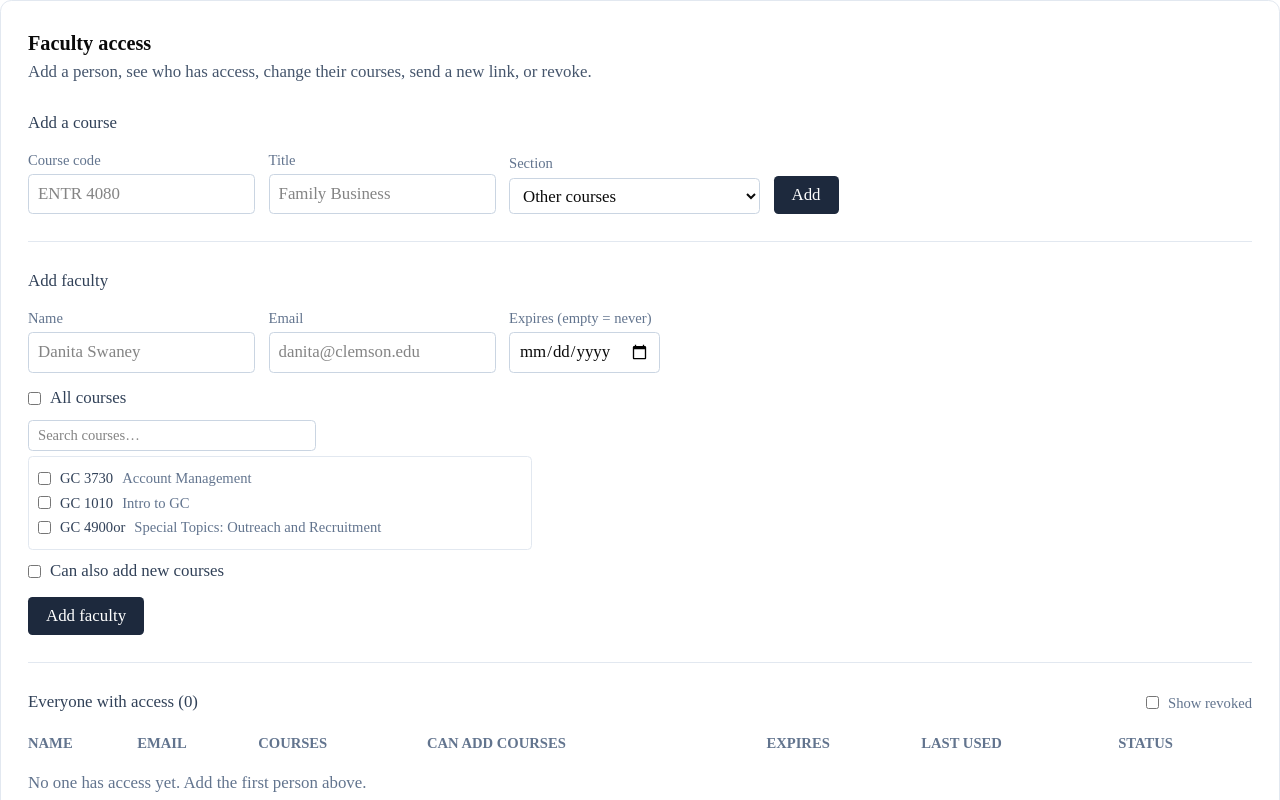
AccessPanel › creating a grant with "All courses" shows the link once, with a Copy button and a mailto Compose email containing the name, courses, and link
This screenshot has width=1280, height=800.
Type "Pat Faculty" into the field labelled "Name" at (142, 353), box [28,332,255,373]
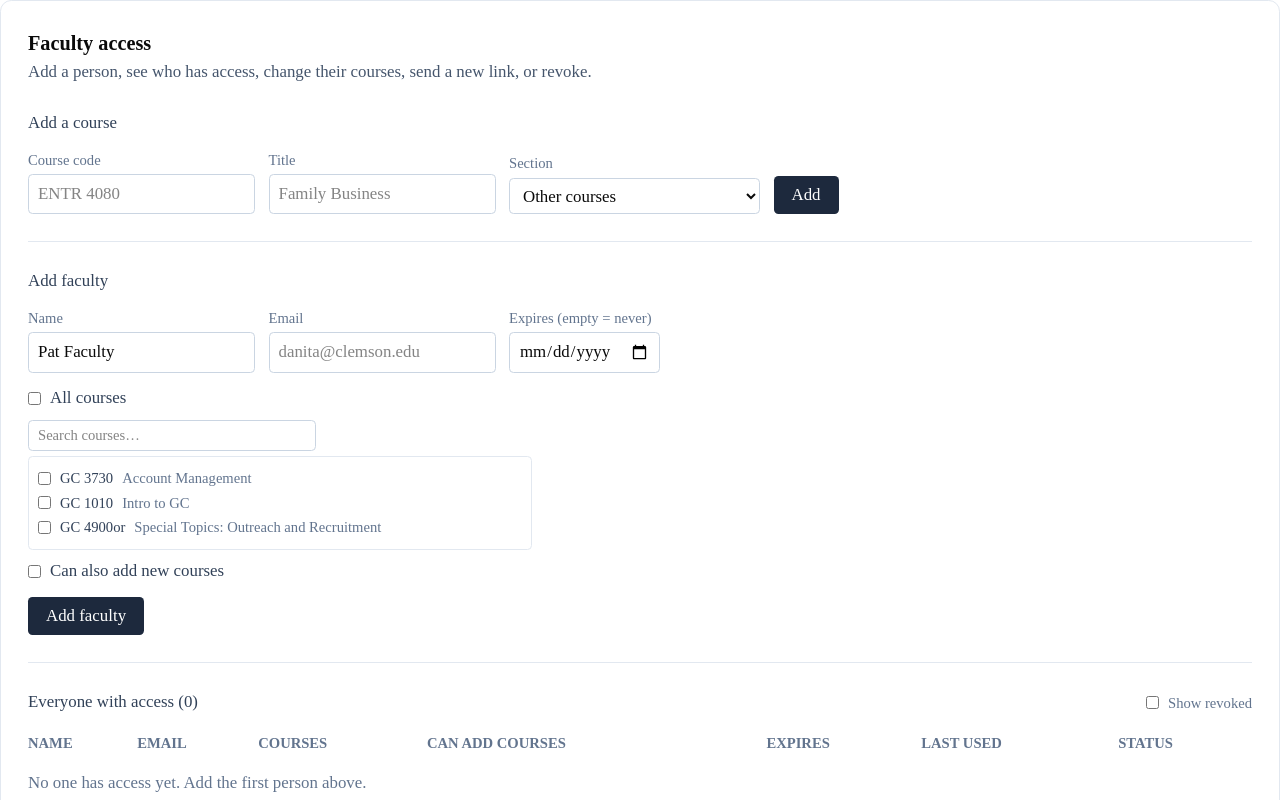
Type "pat@example.edu" into the field labelled "Email" at (382, 353), box [268,332,496,373]
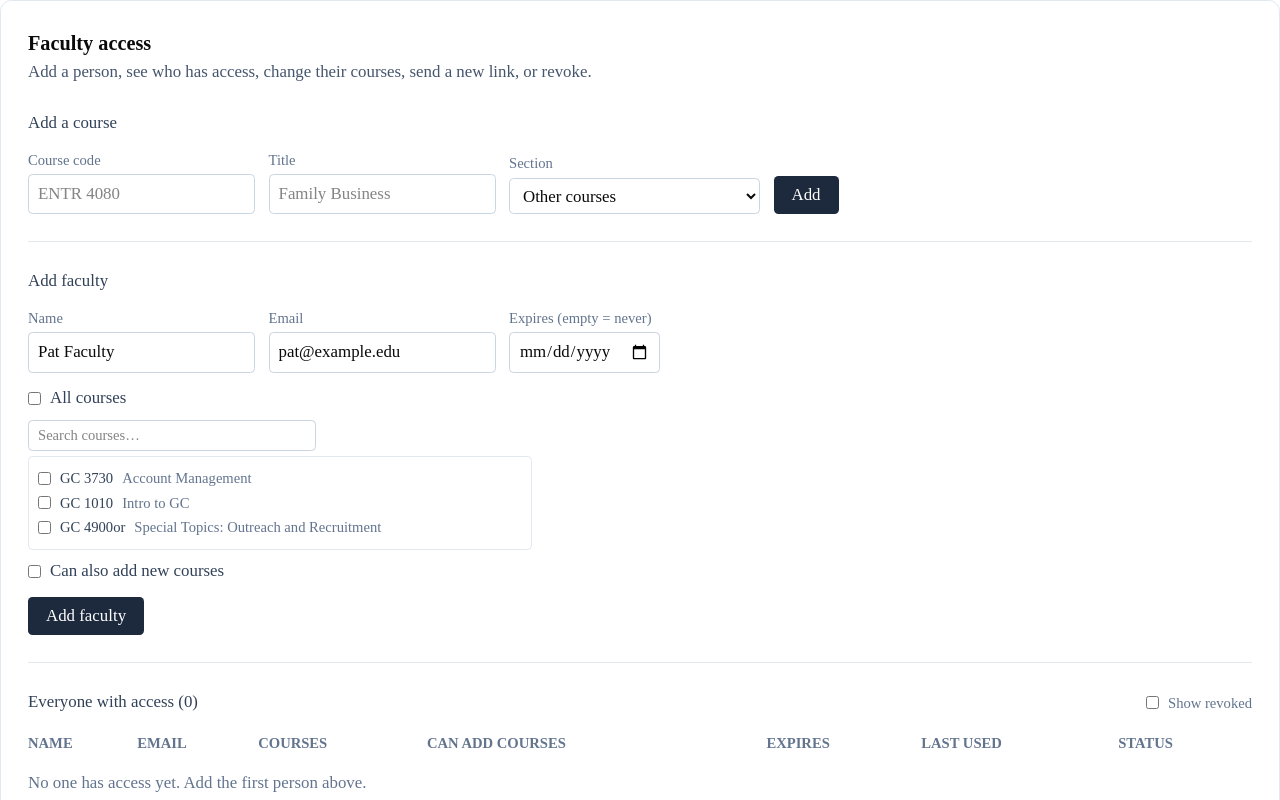
Click the checkbox labelled "All courses" at (34, 399), box [28,392,41,405]
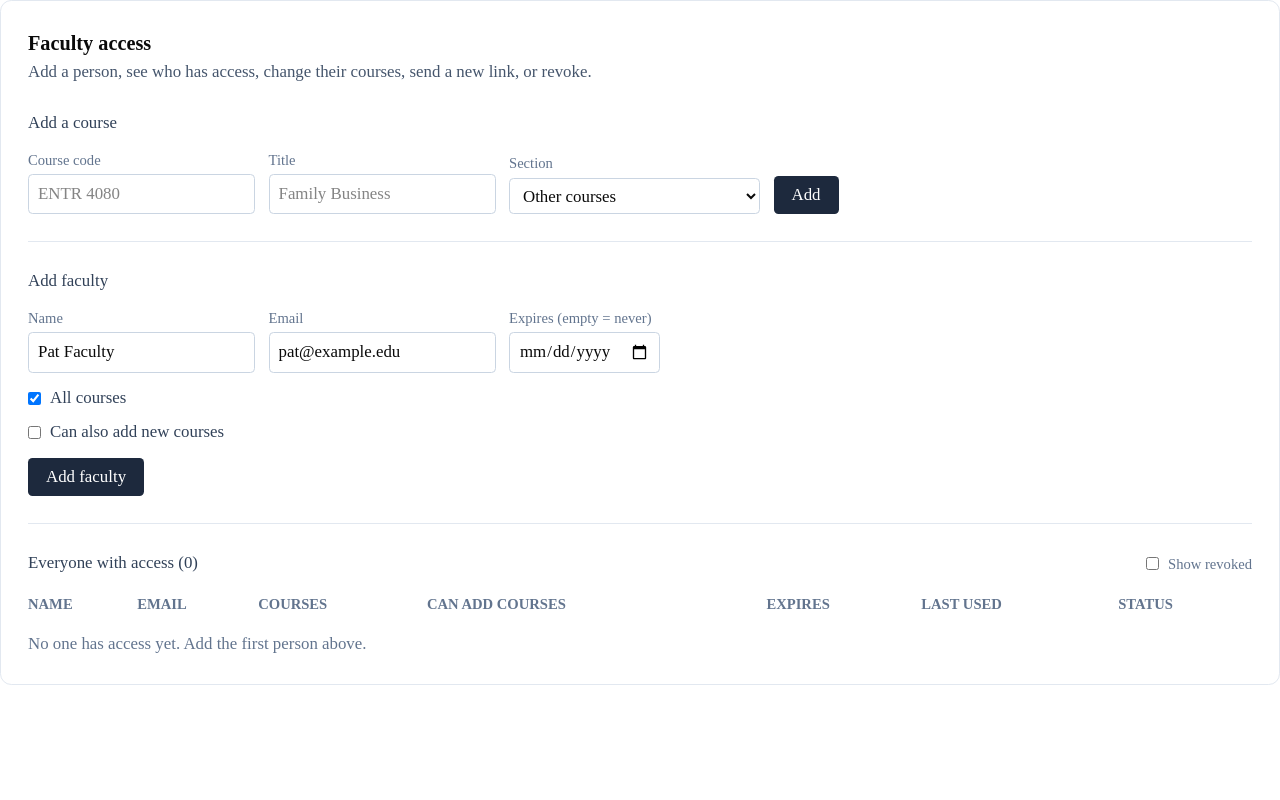
Click the button "Add faculty" at (86, 477), box [28,458,144,496]
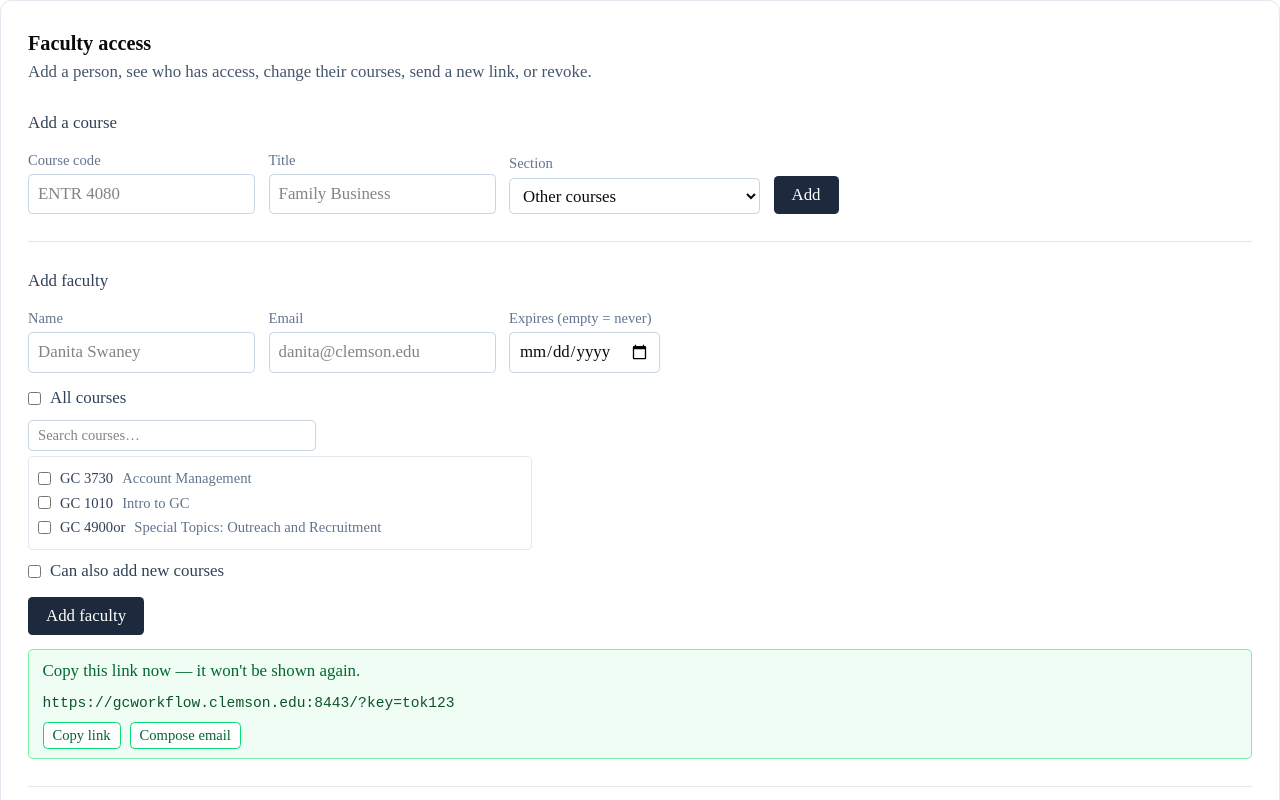
Now the text "Copy this link now — it won't be shown again." is shown, box [42,661,360,680]
Now the text "https://gcworkflow.clemson.edu:8443/?key=tok123" is shown, box [42,695,455,711]
Now the button "Copy link" is shown, box [42,722,120,749]
